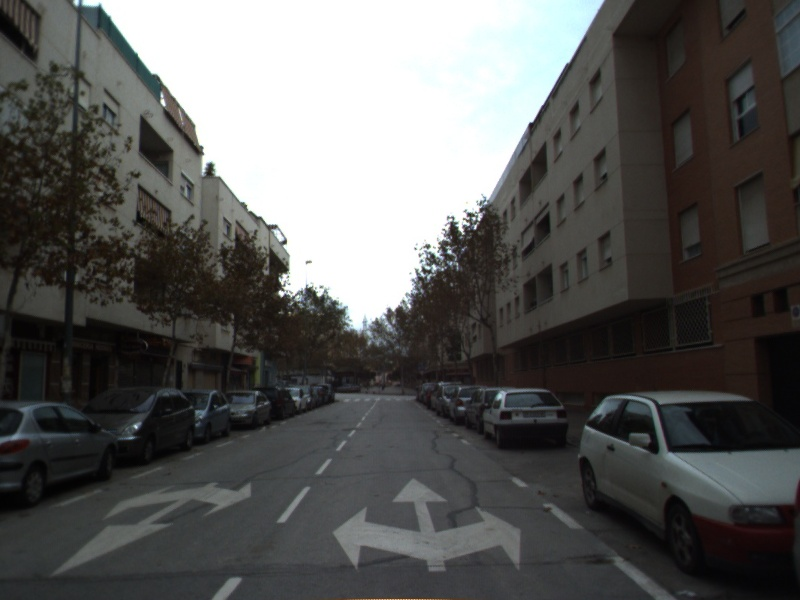STRAIGHT_LEFT_RIGHT: (329, 475, 524, 574)
